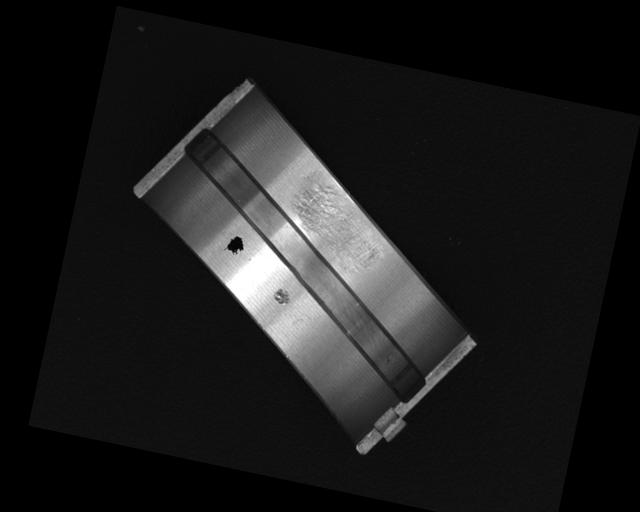blot: (222, 233, 246, 258)
bruise: (270, 286, 292, 308)
gap: (150, 127, 465, 404)
scratch: (281, 180, 390, 279)
